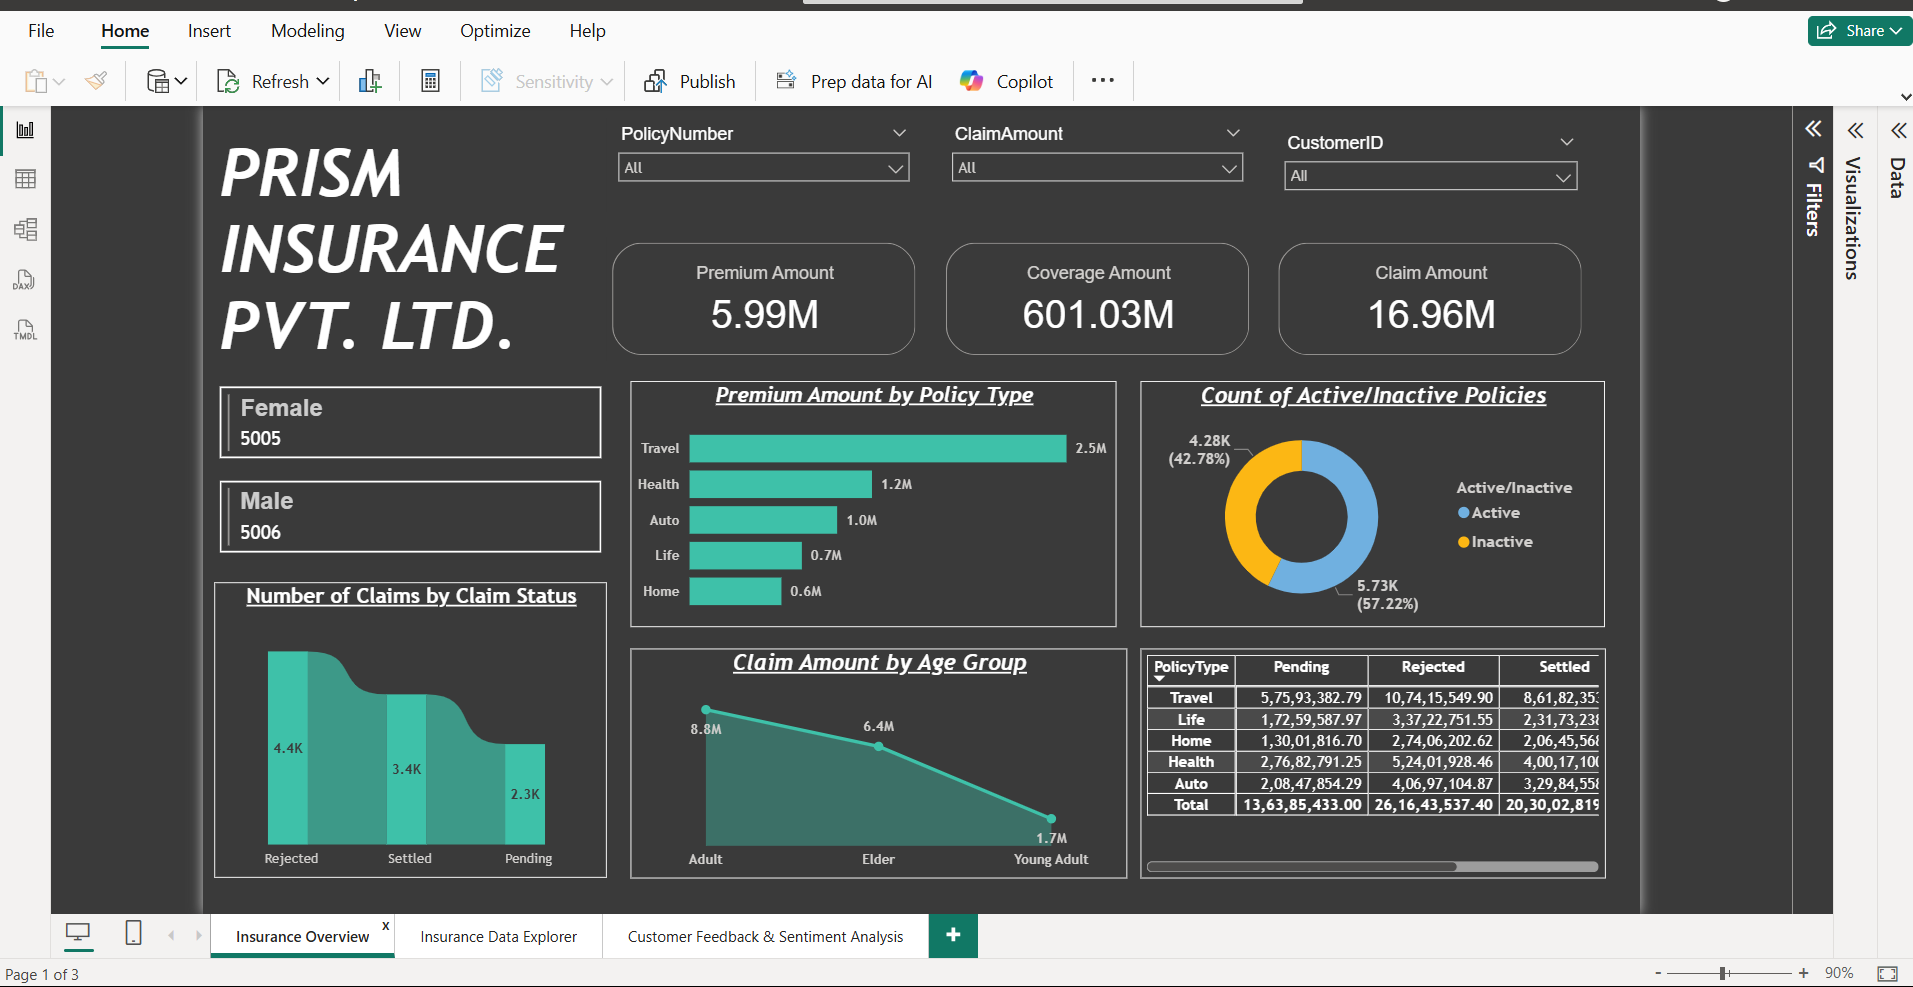

What the dashboard file says about the page in this screenshot:
{"tool":"powerbi","page":{"name":"Insurance Overview ","canvas":[1280,720],"ordinal":0},"visuals":[{"type":"slicer","fields":{"Values":["InsuranceData.PolicyNumber"]},"box":[359.5,10.9,279.9,83.2],"z":0},{"type":"slicer","fields":{"Values":["InsuranceData.CustomerID"]},"box":[953.1,19.3,281.1,74.8],"z":1000},{"type":"textbox","box":[10,20,321.7,316.7],"z":2000},{"type":"cardVisual","fields":{"Data":["Sum(InsuranceData.PremiumAmount)"]},"box":[360,116.7,280,110],"z":3000},{"type":"cardVisual","fields":{"Data":["Sum(InsuranceData.CoverageAmount)"]},"box":[656.7,116.7,280,110],"z":4000},{"type":"cardVisual","fields":{"Data":["Sum(InsuranceData.ClaimAmount)"]},"box":[953.3,116.7,280,110],"z":5000},{"type":"multiRowCard","fields":{"Values":["InsuranceData.Gender","CountNonNull(InsuranceData.Gender)"]},"box":[9.7,244.9,349.9,179.8],"z":6000},{"type":"ribbonChart","title":"Number of Claims by Claim Status","fields":{"Category":["InsuranceData.ClaimStatus"],"Y":["CountNonNull(InsuranceData.ClaimStatus)"]},"box":[9.7,424.7,349.9,263],"z":7000},{"type":"barChart","title":"Premium Amount by Policy Type","fields":{"Category":["InsuranceData.PolicyType"],"Y":["Sum(InsuranceData.PremiumAmount)"]},"box":[381.2,244.9,433.1,219.6],"z":8000},{"type":"lineChart","title":"Claim Amount by Age Group","fields":{"Category":["InsuranceData.Age Groups"],"Y":["Sum(InsuranceData.ClaimAmount)"]},"box":[381.2,482.6,442.8,205.1],"z":9000},{"type":"donutChart","title":"Count of Active/Inactive Policies","fields":{"Category":["InsuranceData.Active/Inactive"],"Y":["CountNonNull(InsuranceData.Active/Inactive)"]},"box":[834.9,244.9,413.8,219.6],"z":10000},{"type":"pivotTable","fields":{"Rows":["InsuranceData.PolicyType"],"Columns":["InsuranceData.ClaimStatus"],"Values":["Sum(InsuranceData.CoverageAmount)"]},"box":[835,483,414,205],"z":11000},{"type":"slicer","fields":{"Values":["InsuranceData.ClaimAmount"]},"box":[656.3,10.9,279.9,83.2],"z":13000}]}

Visuals, with their boxes on the page's 1280x720 design canvas (x1, y1, x2, y2). These are canvas units, not pixel positions in the 1913x987 screenshot, which may show the page scaled, cropped or inside an application window:
slicer - InsuranceData.PolicyNumber: box=[360, 11, 639, 94]
slicer - InsuranceData.CustomerID: box=[953, 19, 1234, 94]
textbox: box=[10, 20, 332, 337]
cardVisual - Sum(InsuranceData.PremiumAmount): box=[360, 117, 640, 227]
cardVisual - Sum(InsuranceData.CoverageAmount): box=[657, 117, 937, 227]
cardVisual - Sum(InsuranceData.ClaimAmount): box=[953, 117, 1233, 227]
multiRowCard - InsuranceData.Gender x CountNonNull(InsuranceData.Gender): box=[10, 245, 360, 425]
"Number of Claims by Claim Status" ribbonChart: box=[10, 425, 360, 688]
"Premium Amount by Policy Type" barChart: box=[381, 245, 814, 464]
"Claim Amount by Age Group" lineChart: box=[381, 483, 824, 688]
"Count of Active/Inactive Policies" donutChart: box=[835, 245, 1249, 464]
pivotTable - InsuranceData.PolicyType x InsuranceData.ClaimStatus: box=[835, 483, 1249, 688]
slicer - InsuranceData.ClaimAmount: box=[656, 11, 936, 94]
